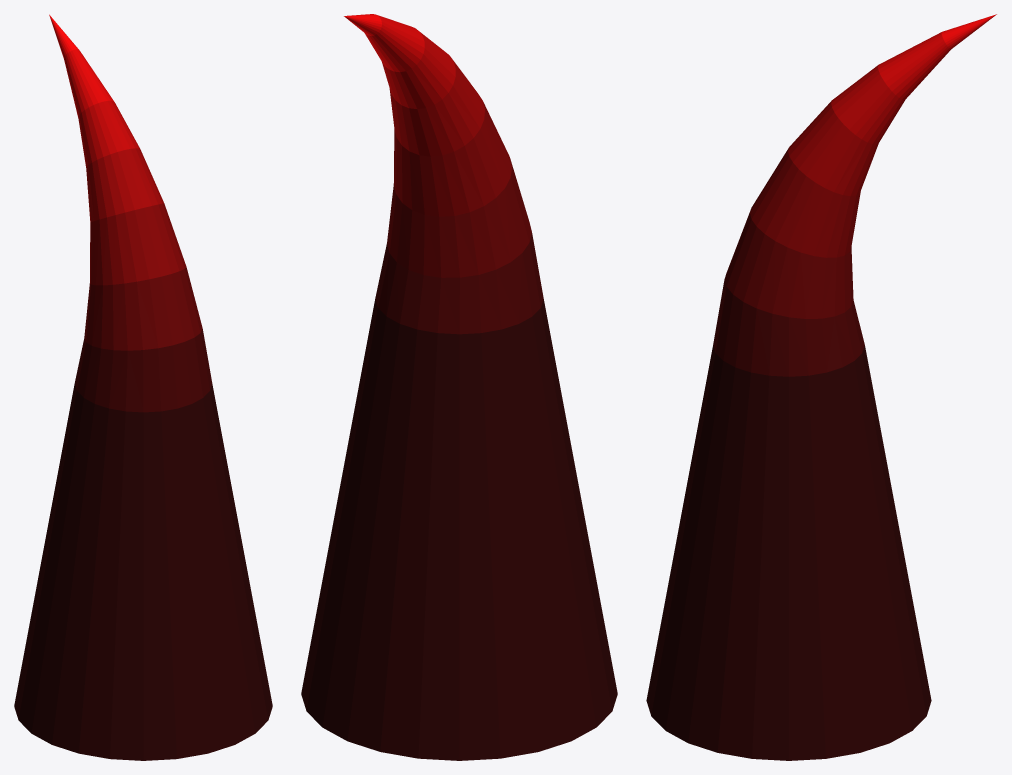
File: cuerno.dae
3 renders of one model, left to right at view 1: azimuth 30°, elevation 25°; view 2: azimuth 150°, elevation 25°; view 3: azimuth 270°, elevation 25°, orthographic. The views are drawn at different scales.
Parts seen in each view (by area): view 1: SketchUp (×7); view 2: SketchUp (×8); view 3: SketchUp (×8).
Part boxes in pixels (x1,y1,x2,y2): SketchUp (×7): [14, 49, 272, 760]; SketchUp (×8): [301, 14, 617, 760]; SketchUp (×8): [646, 14, 996, 760].
Size of the model in its own units: 345 by 425 by 917.
